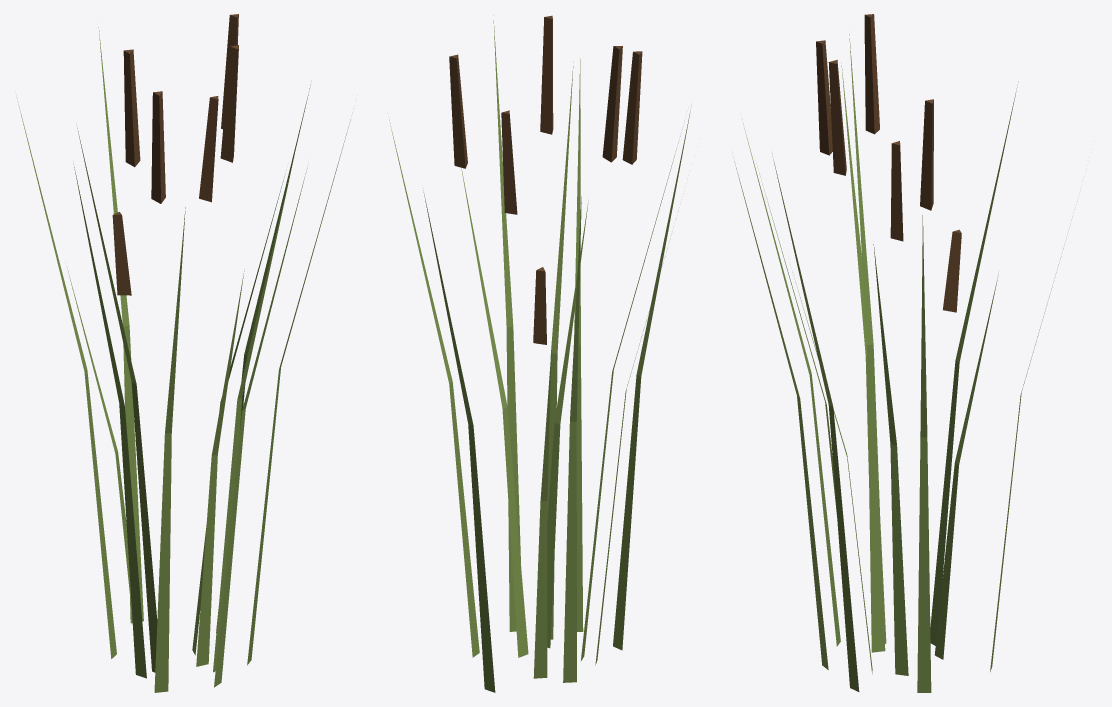
The model's file is roseaux.glb.
The picture shows the model from 3 angles, left to right: view 1: azimuth 30°, elevation 25°; view 2: azimuth 150°, elevation 25°; view 3: azimuth 270°, elevation 25°; orthographic projection. The views are drawn at different scales.
Parts seen in each view (by area): view 1: roseaux; view 2: roseaux; view 3: roseaux.
Part boxes in pixels (x1,y1,x2,y2): roseaux: [16, 14, 350, 692]; roseaux: [389, 15, 691, 692]; roseaux: [734, 14, 1063, 692].
Size of the model in its own units: 1.14 by 2.45 by 1.31.
Materials: 1 (1 with a texture image).
